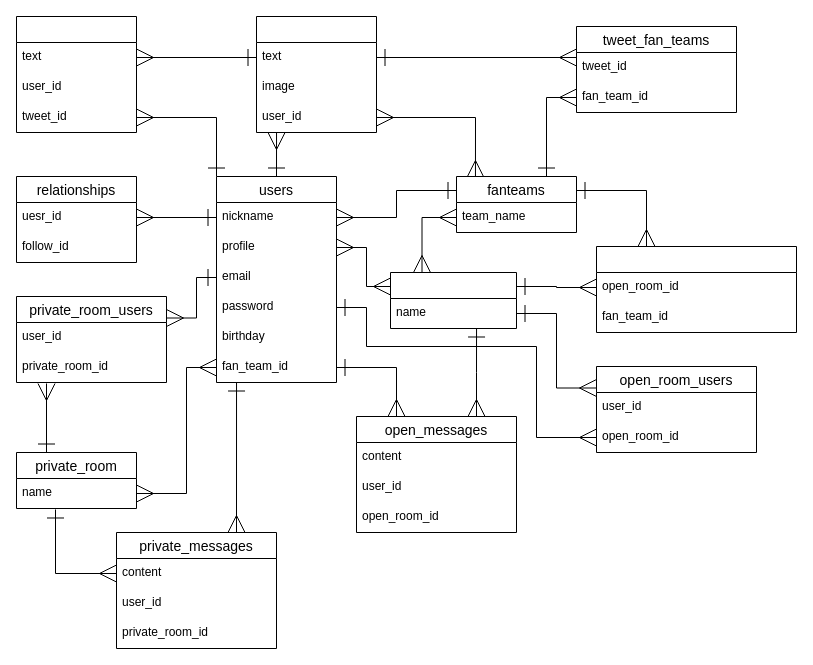
This 813x665 diagram has some shape labels left out. Each missing label, with the box of its shape:
comments: (16, 16, 136, 132)
open_room: (390, 272, 516, 328)
open_room_fan_teams: (596, 246, 796, 332)
tweets: (256, 16, 376, 132)
